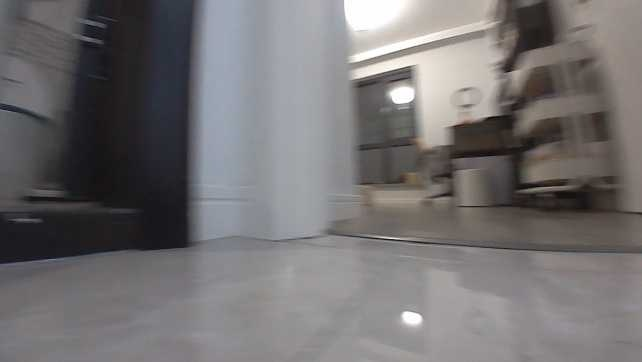door_sill: (328, 222, 640, 265), (0, 197, 147, 269)
toilet: (1, 52, 47, 198)
